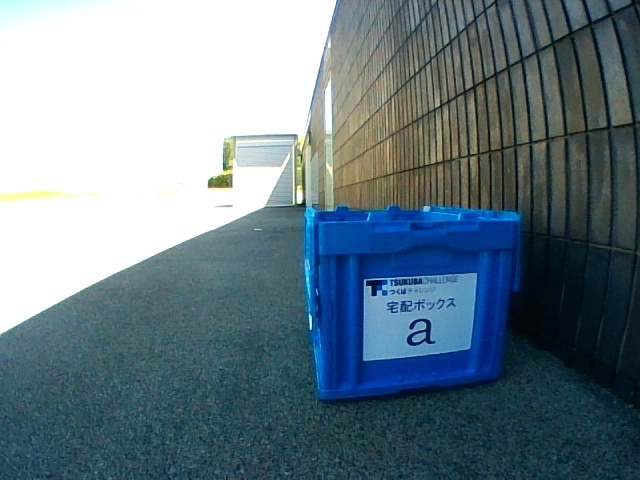blue_box: (304, 205, 522, 399)
tag_a: (375, 282, 466, 347)
